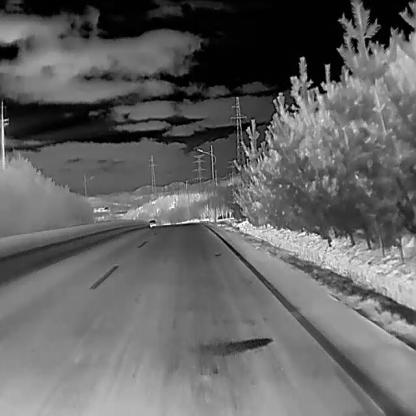car: (148, 219, 156, 225)
